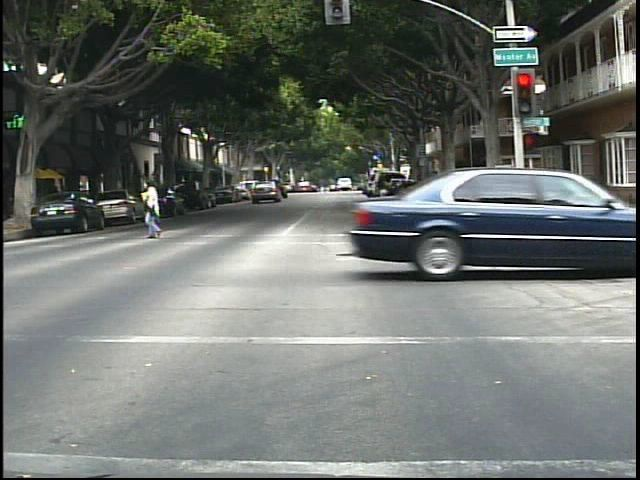person: (135, 172, 175, 243), (371, 172, 397, 217), (428, 165, 448, 204)
